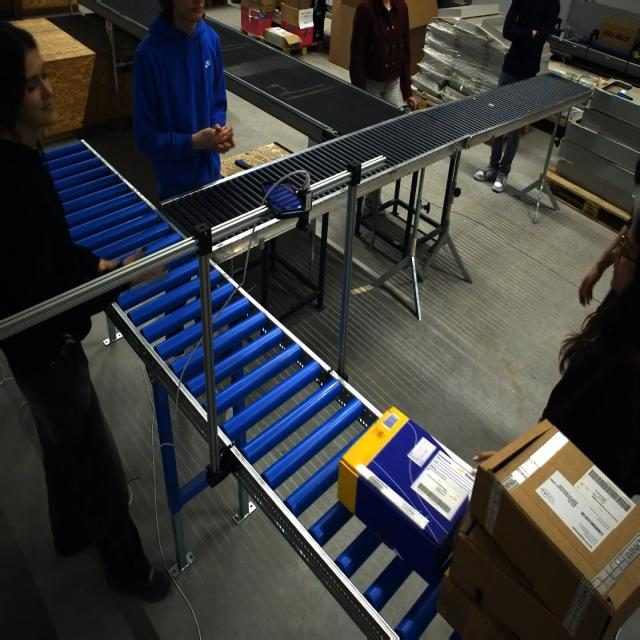box: (440, 427, 640, 639), (344, 419, 467, 584)
